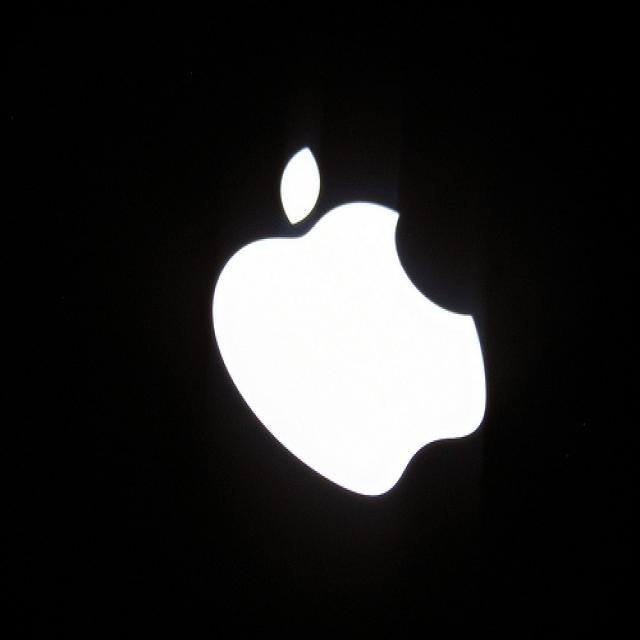apple: (206, 131, 504, 505)
